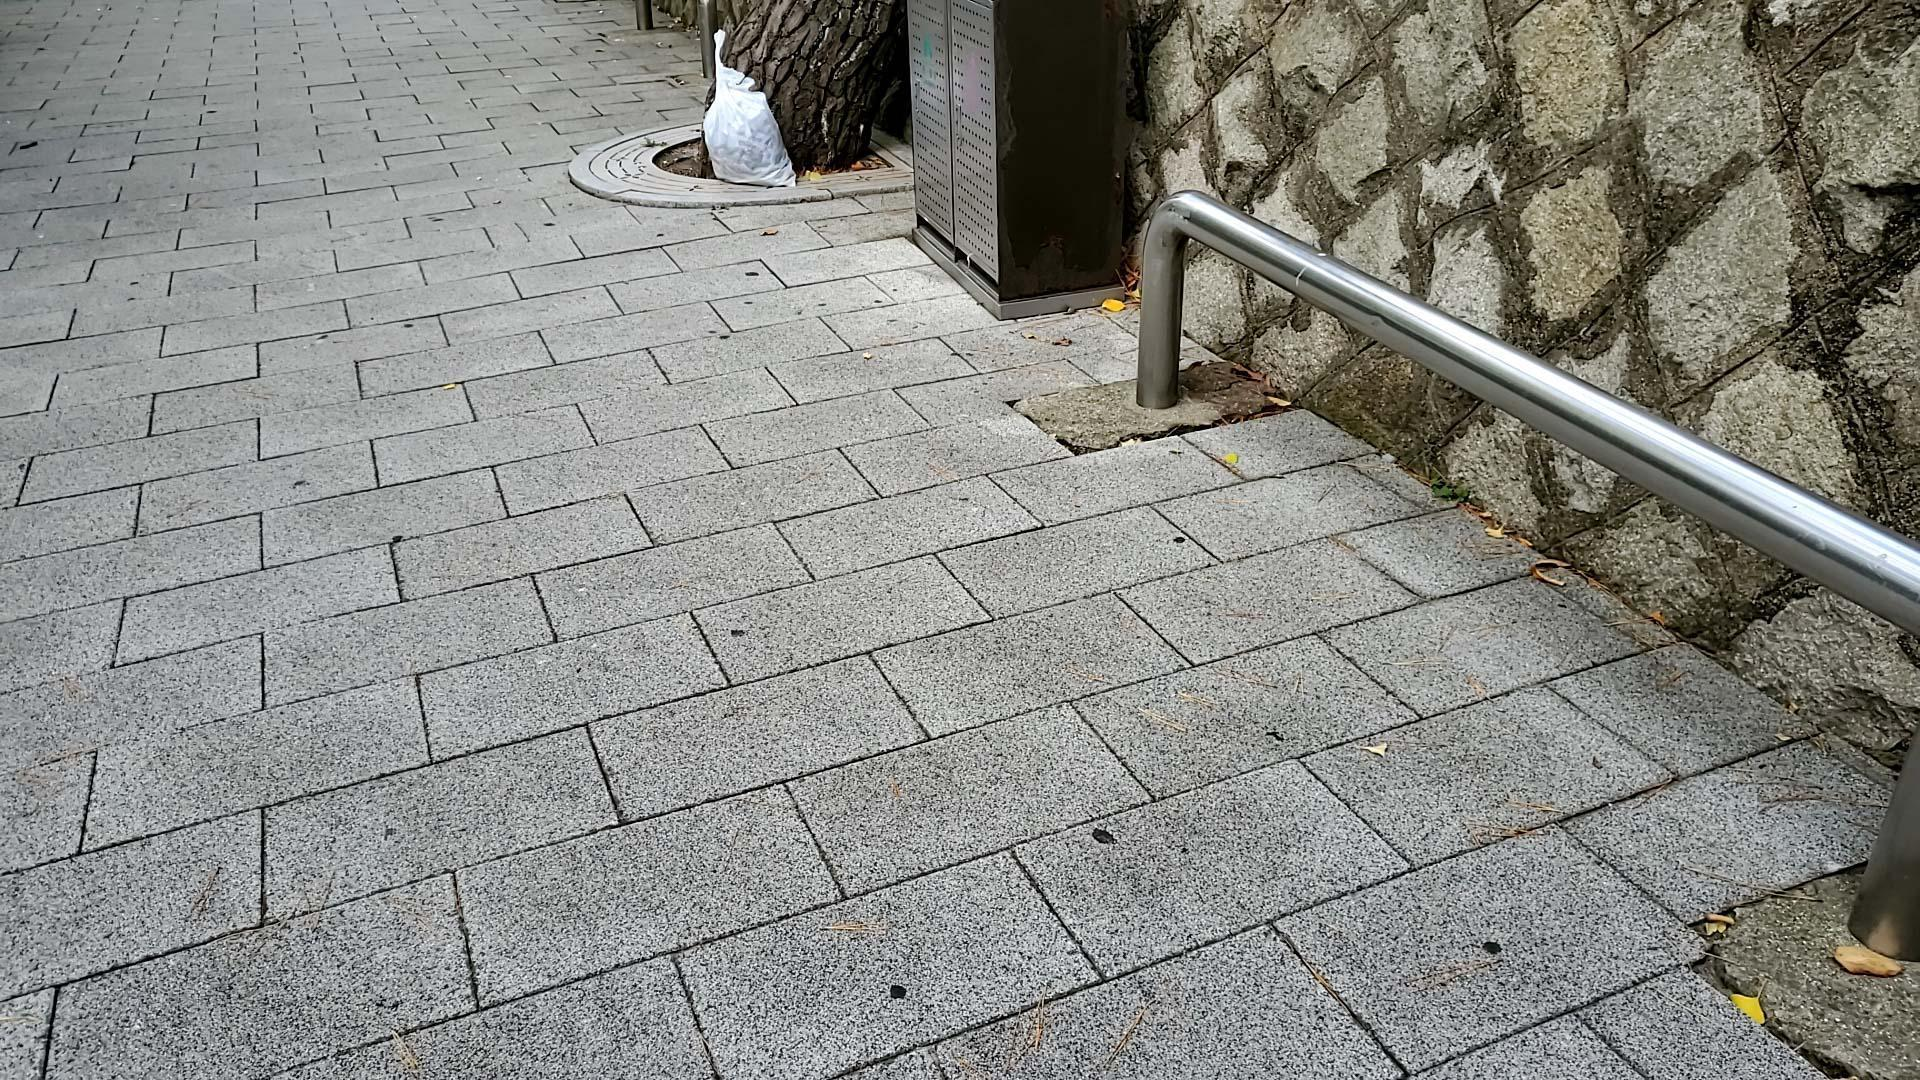white_bag: (694, 21, 804, 195)
